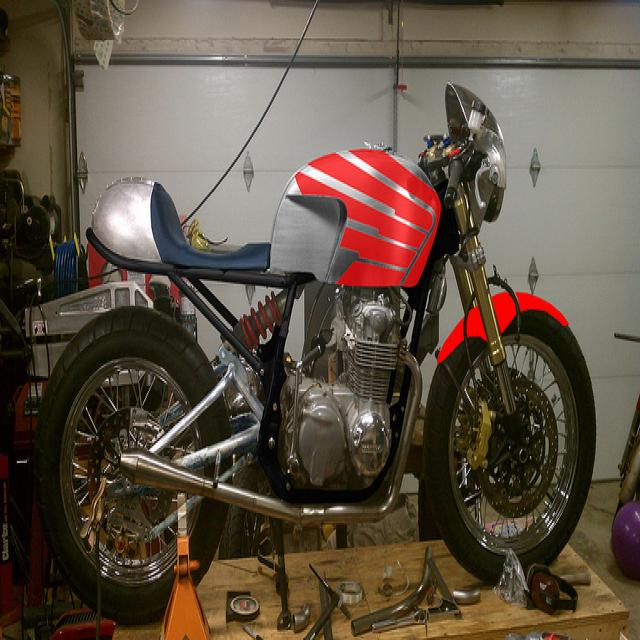motor: (35, 79, 597, 634)
